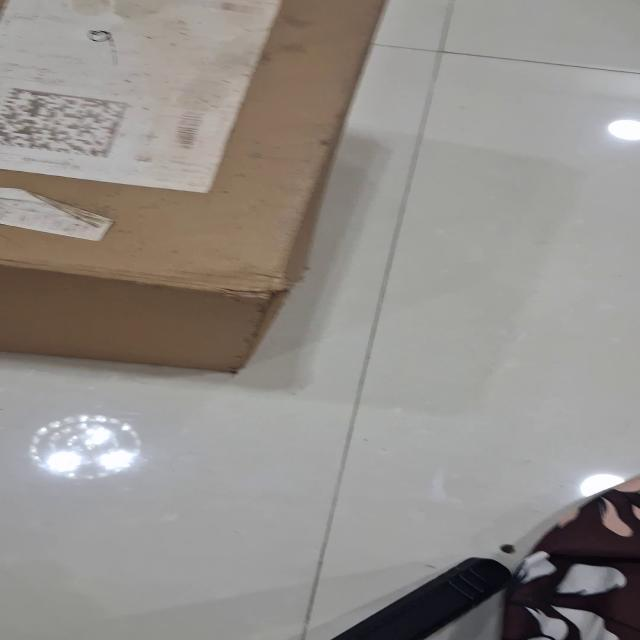paper: (0, 0, 282, 194), (0, 186, 114, 241)
